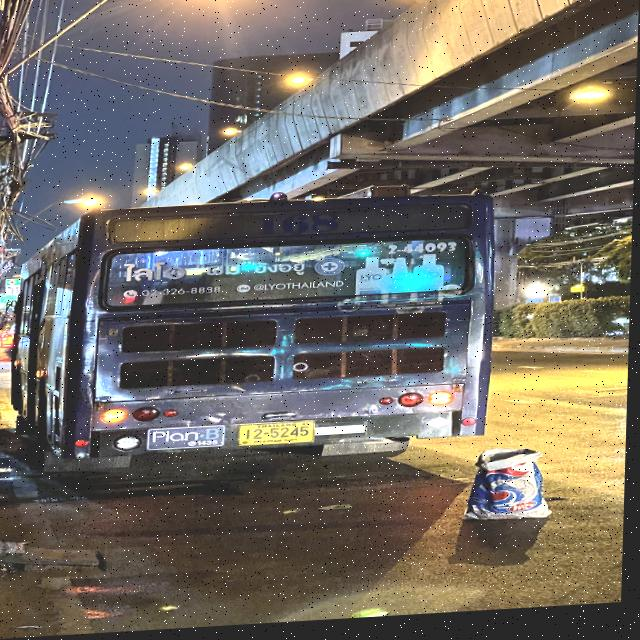BMTA-bus: (10, 180, 507, 487)
Bus Line Number: (247, 212, 362, 241)
Bus Side Number: (379, 243, 468, 263)
